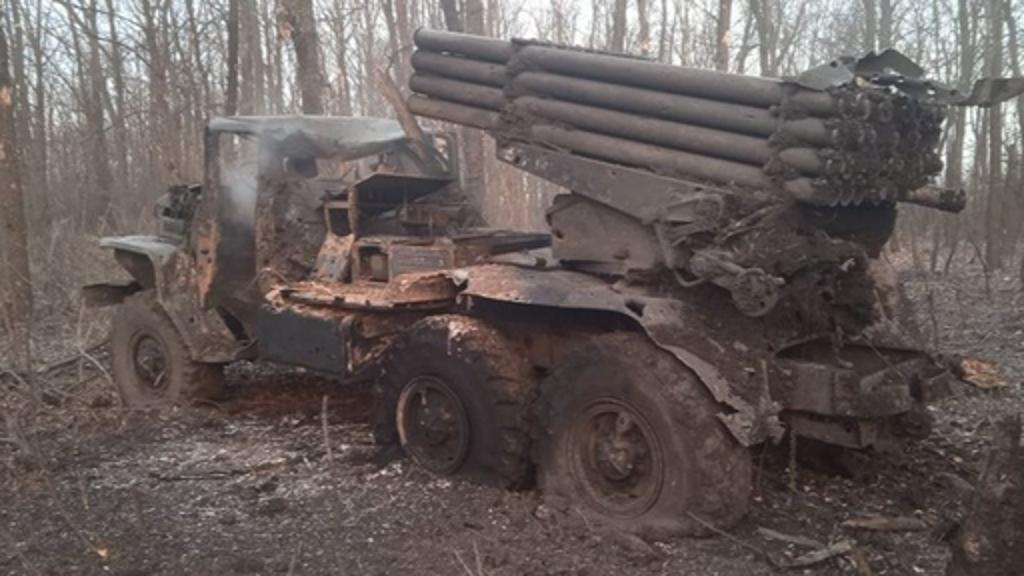MLRS: (82, 24, 966, 542)
